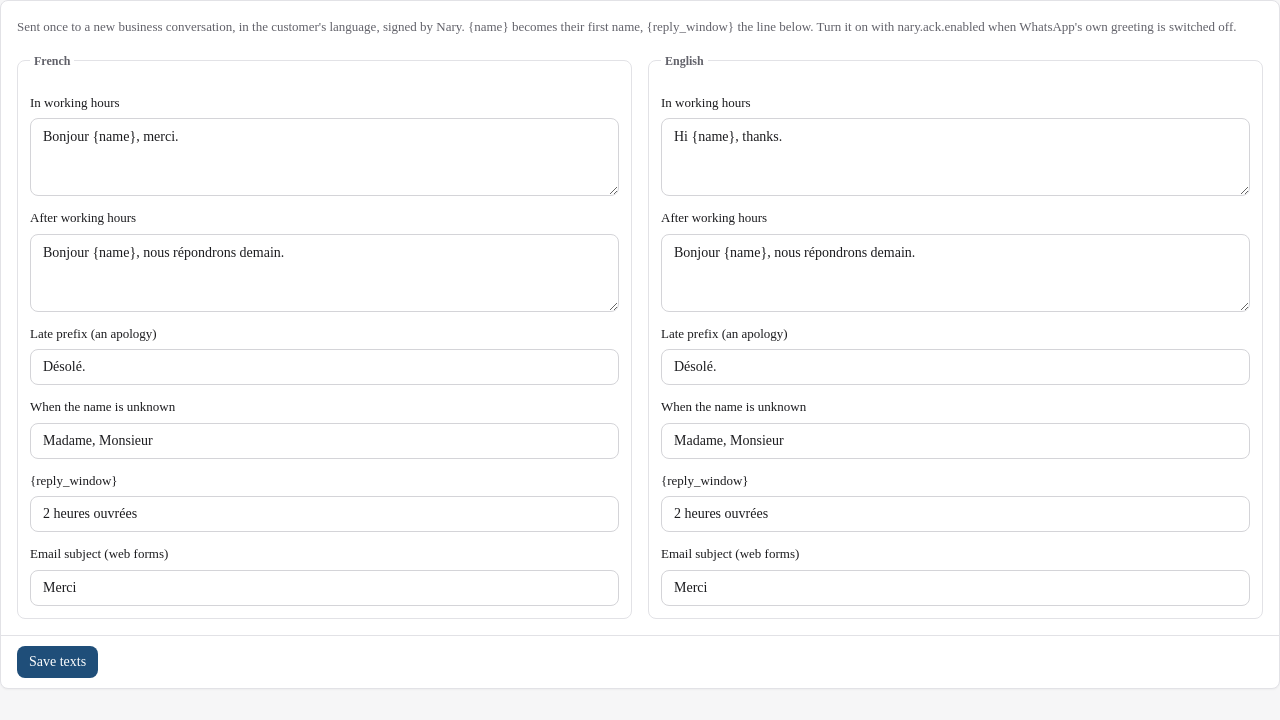
Scenario: Acknowledgement texts › won't save with an empty text
Clear the field named "French Late prefix (an apology)": (324, 367) [30,349,619,385]
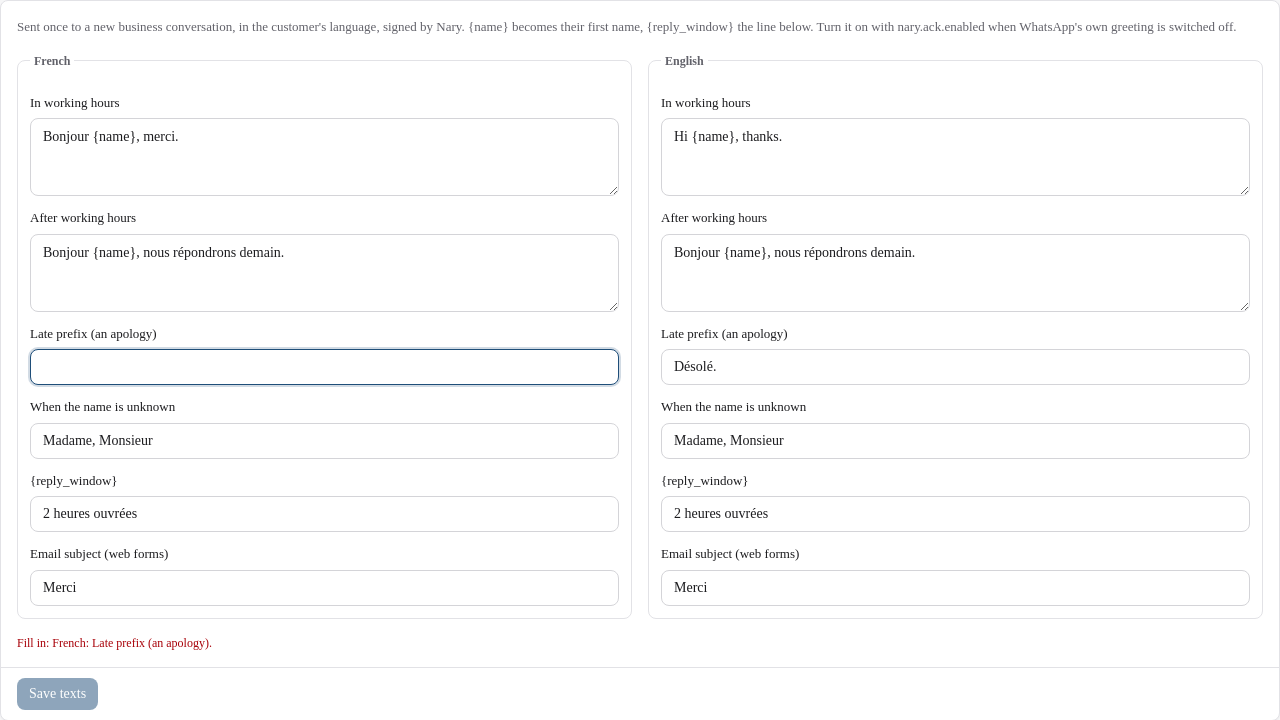
Now the button "Save texts" is disabled, box [17,678,98,710]
Now the text "Fill in: French: Late prefix (an apology)." is shown, box [17,636,212,650]
